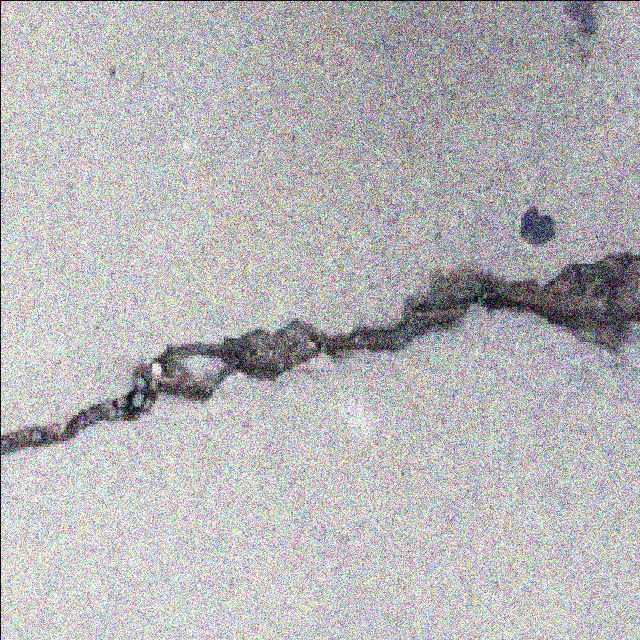SurfaceCrack: (0, 230, 634, 476)
